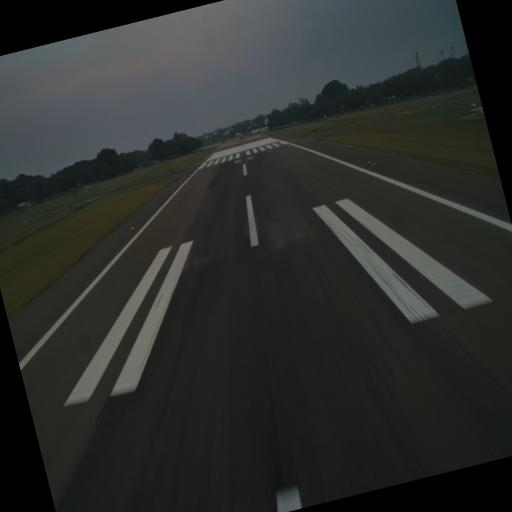on: (130, 224, 136, 234), (366, 156, 372, 166)
